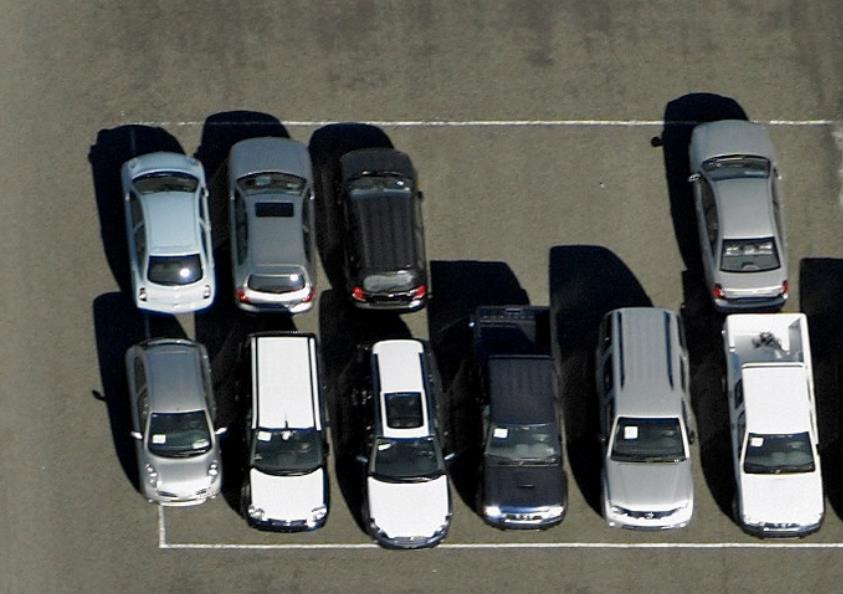car: (457, 296, 574, 534), (715, 309, 829, 542), (348, 337, 459, 553), (682, 115, 794, 310), (232, 327, 333, 534), (118, 334, 228, 508), (226, 134, 318, 315), (117, 151, 218, 315), (335, 146, 430, 317)
